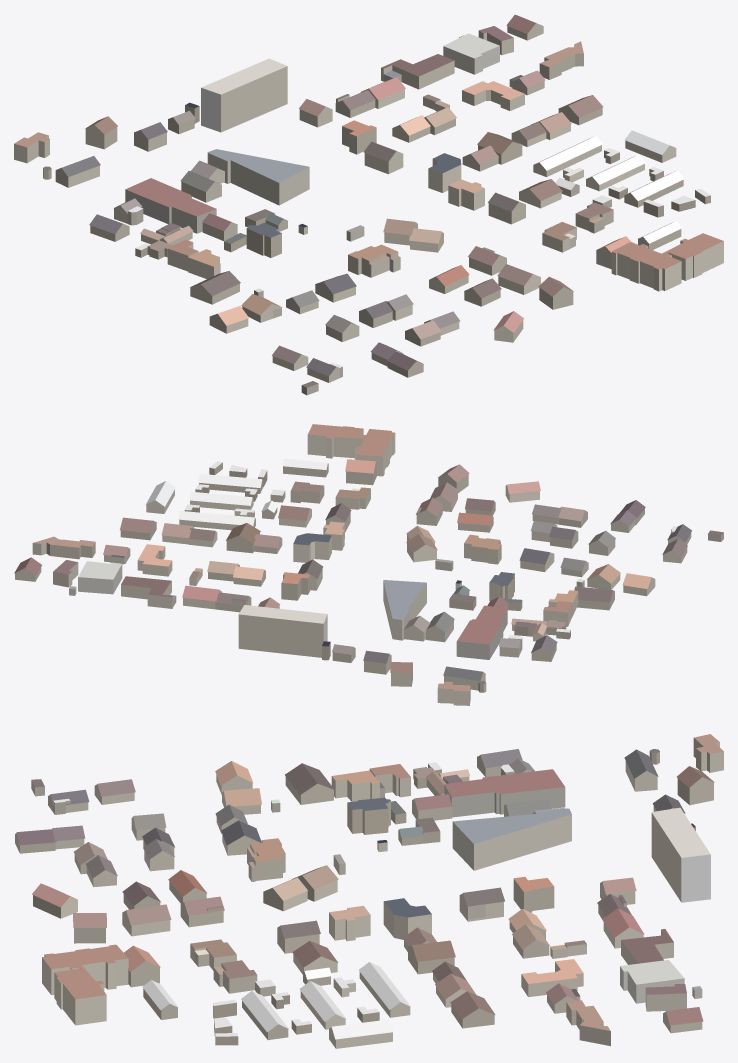
3 renders of one model, top to bottom at view 1: azimuth 30°, elevation 25°; view 2: azimuth 150°, elevation 25°; view 3: azimuth 270°, elevation 25°, orthographic. The views are drawn at different scales.
Parts seen in each view (by area): view 1: tuile; view 2: tuile; view 3: tuile.
Boxes of the visible parts, <box> form: tuile: <box>14,14,723,395</box>; tuile: <box>14,424,723,705</box>; tuile: <box>15,734,723,1048</box>.
Size of the model in its own units: 265 by 31.62 by 259.
